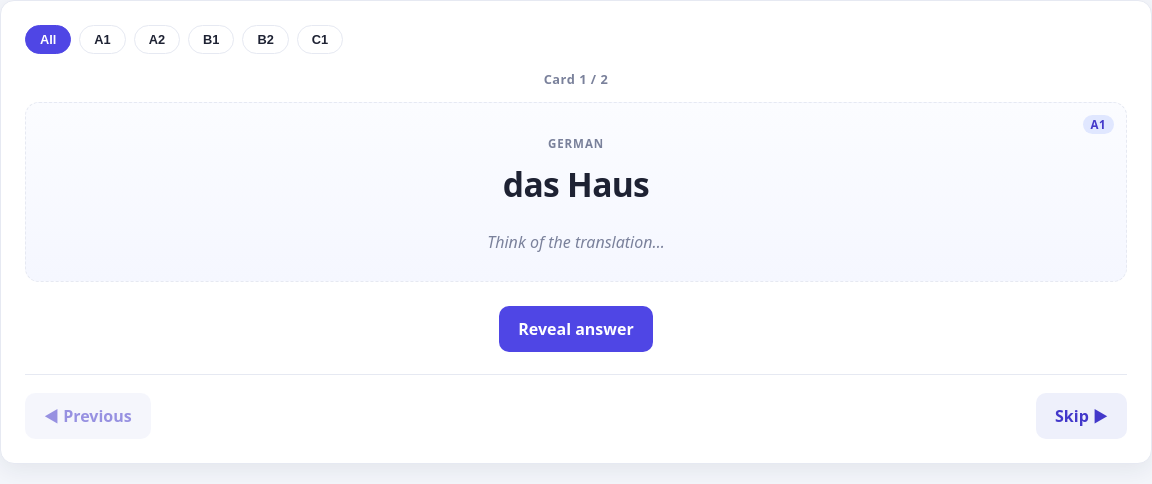
Scenario: StudyMode › skips to the next card without recording an answer
The width and height of the screenshot is (1152, 484).
Click the button "Skip ▶" at (1082, 416), box [1036,393,1127,439]
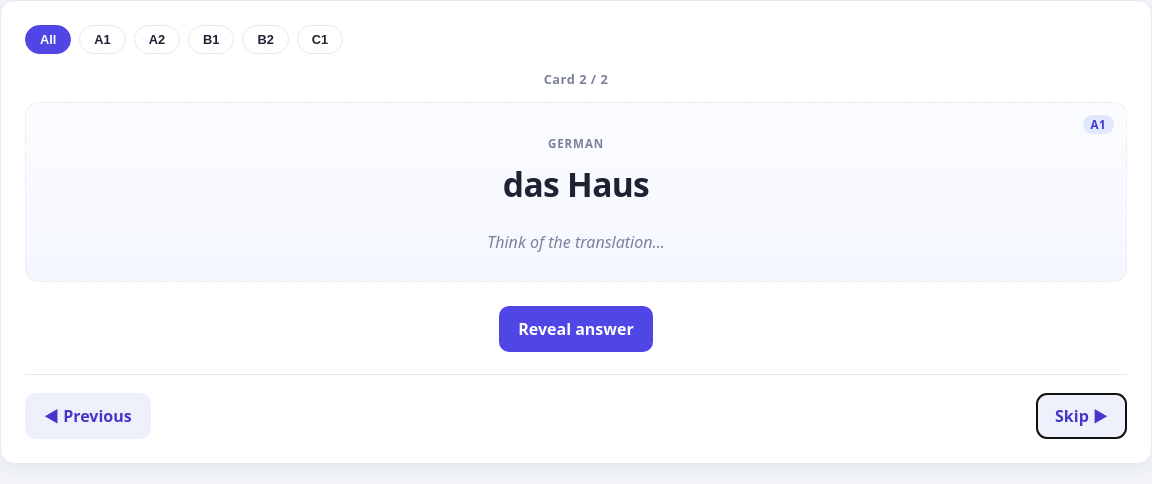
Result: the text "Card 2 / 2" is shown at [544,70,608,88]
